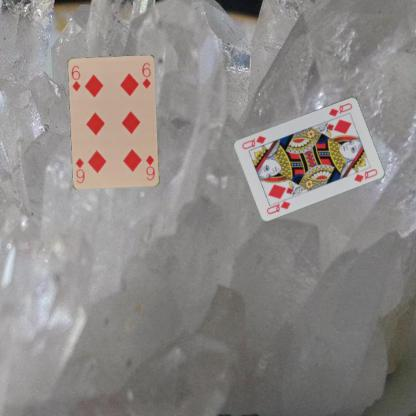6d: (143, 152, 156, 182), (69, 63, 82, 92)
Qd: (264, 194, 292, 216), (326, 100, 353, 117)
